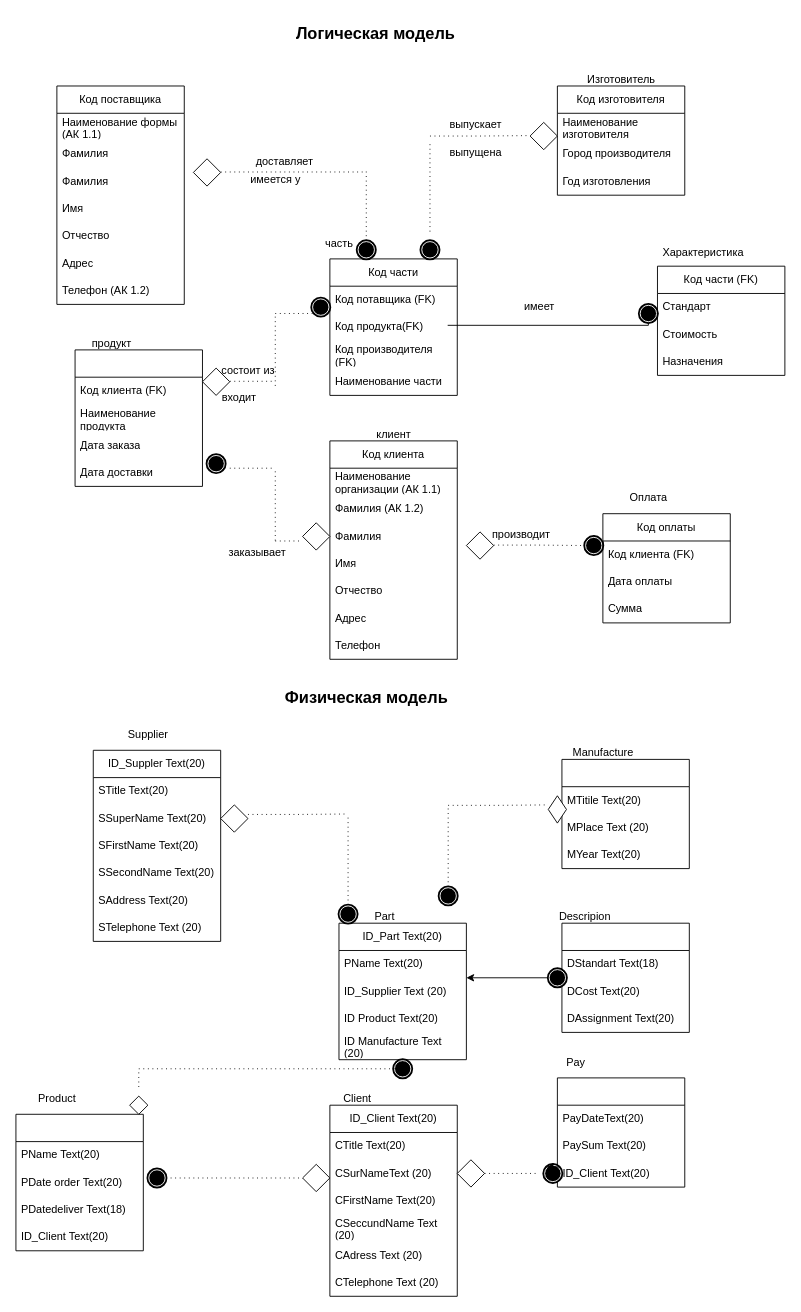
Image size: 801x1312. Some labels were removed from this diagram. Here are the shapes that lost their labels. From the top down, the box of each, then its label:
(74, 349, 202, 486): Код продукта
(561, 758, 689, 869): ID_Manufacture Text(20)
(561, 922, 689, 1032): ID Pat Text(20)
(556, 1077, 685, 1187): ID Pay Text(20)
(15, 1113, 143, 1251): ID ProductText(20)
